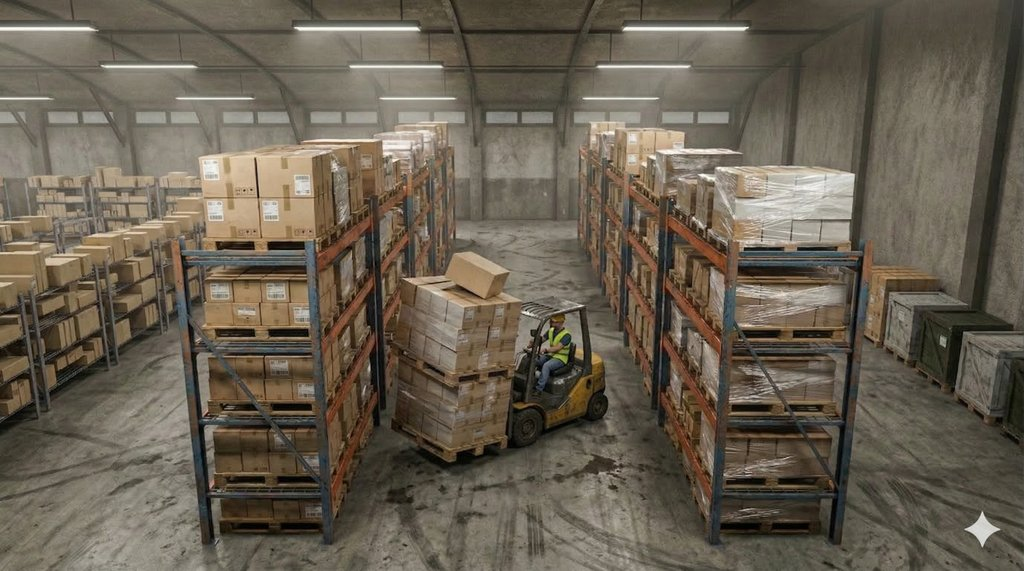forklift: (469, 262, 644, 460)
pallet: (725, 319, 844, 348)
person: (533, 308, 588, 408)
safety_vest: (541, 328, 574, 381)
